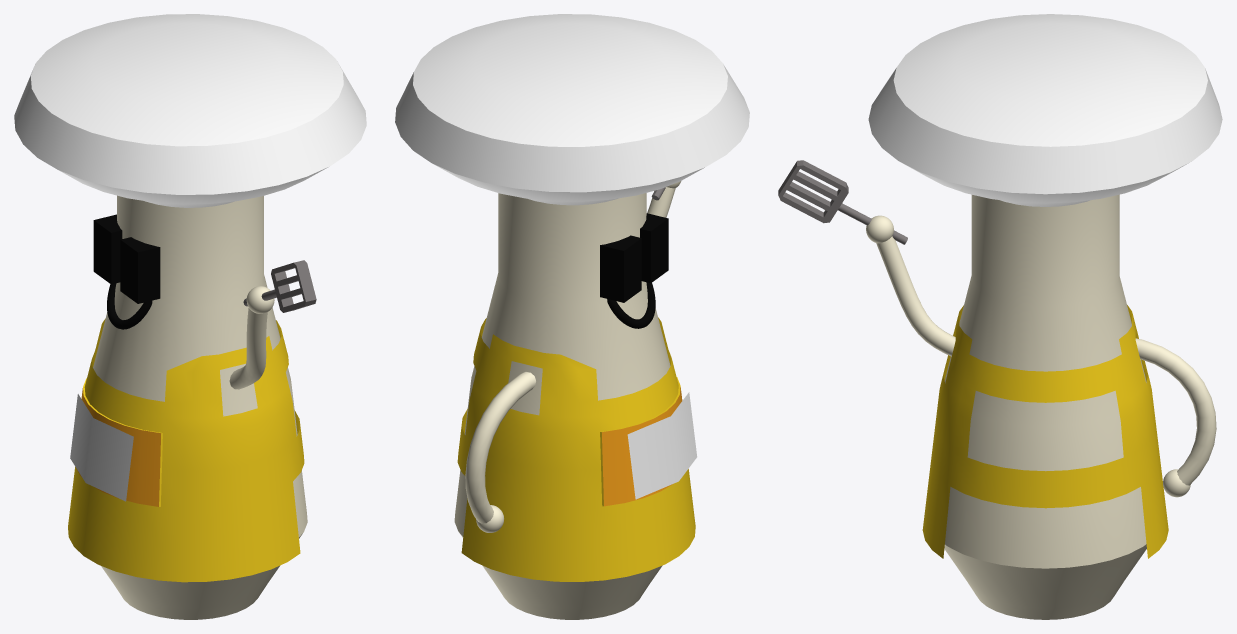
File: character.glb
The picture shows the model from 3 angles, left to right: view 1: azimuth 30°, elevation 25°; view 2: azimuth 150°, elevation 25°; view 3: azimuth 270°, elevation 25°; orthographic projection.
Parts seen in each view (by area): view 1: body, apron, curry, eye r, eye l, 뒤집개, 팔, mouth, hand; view 2: body, apron, curry, 팔 L, eye l, eye r, mouth, 팔; view 3: body, apron, 팔 L, 뒤집개, 팔, hand.
Part boxes in pixels (box(x1,y1,x2,y2)): body: box(14, 14, 366, 619); apron: box(68, 318, 304, 582); curry: box(70, 394, 133, 501); eye r: box(120, 237, 160, 303); eye l: box(93, 214, 122, 284); 뒤집개: box(243, 260, 316, 312); 팔: box(229, 308, 267, 389); mouth: box(107, 283, 152, 329); hand: box(246, 286, 274, 313); body: box(395, 14, 749, 619); apron: box(457, 317, 695, 581); curry: box(627, 392, 697, 499); 팔 L: box(465, 372, 535, 523); eye l: box(600, 235, 641, 302); eye r: box(640, 213, 668, 283); mouth: box(607, 282, 655, 328); 팔: box(647, 187, 675, 217); body: box(868, 14, 1222, 619); apron: box(922, 305, 1168, 558); 팔 L: box(1135, 338, 1216, 485); 뒤집개: box(778, 160, 907, 244); 팔: box(876, 236, 955, 356); hand: box(866, 215, 893, 243).
Size of the model in its own units: 5.04 by 8.26 by 6.32.
